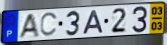2: (110, 7, 129, 34)
3: (130, 5, 149, 34), (65, 9, 81, 37)
A: (17, 13, 41, 40), (82, 10, 105, 36)
C: (39, 11, 60, 38)
